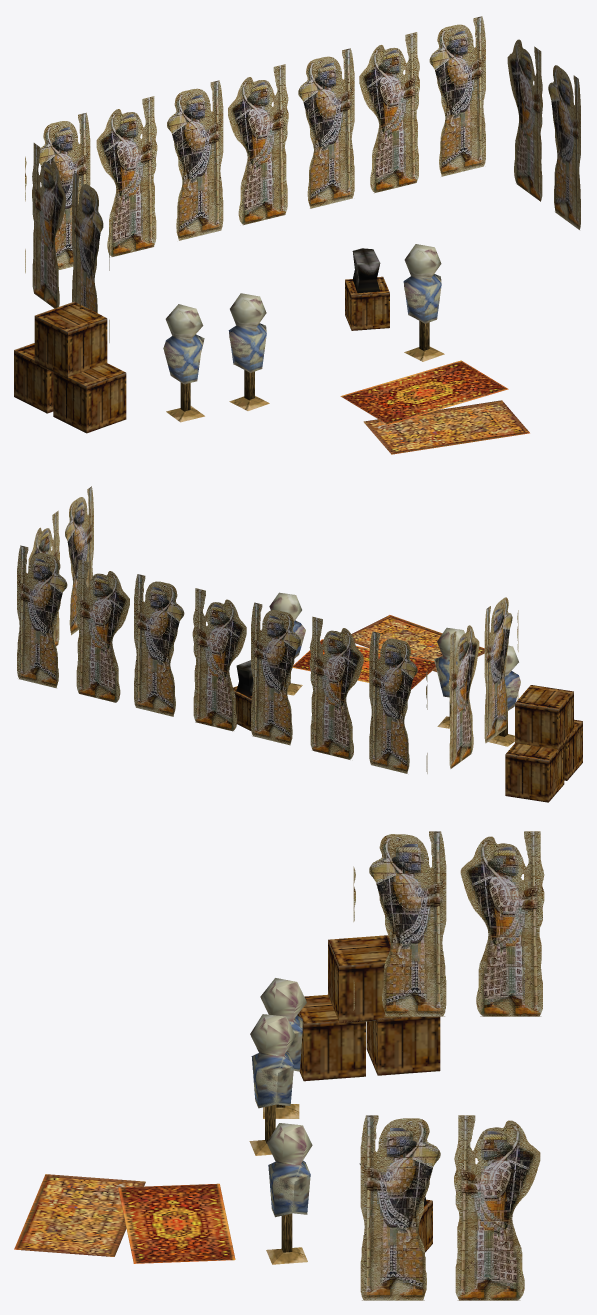
File: pers_barracks_props_a.dae
The picture shows the model from 3 angles, top to bottom: view 1: azimuth 30°, elevation 25°; view 2: azimuth 150°, elevation 25°; view 3: azimuth 270°, elevation 25°; orthographic projection. The views are drawn at different scales.
Parts seen in each view (by area): view 1: Object16-Pivot; view 2: Object16-Pivot; view 3: Object16-Pivot.
Boxes of the visible parts, x1,y1,x2,y2 form: Object16-Pivot: (14, 16, 580, 454); Object16-Pivot: (17, 486, 582, 802); Object16-Pivot: (14, 831, 544, 1300).
Size of the model in its own units: 18.06 by 13.45 by 6.58.
